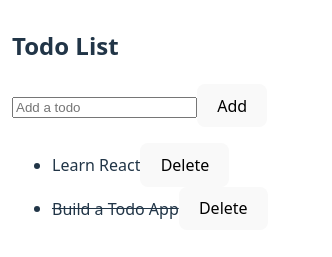
TodoList Component › adds a new todo
Type "New Todo" into the field named "todo-input" at {"x": 104, "y": 107}, box x1=12 y1=97 x2=197 y2=118
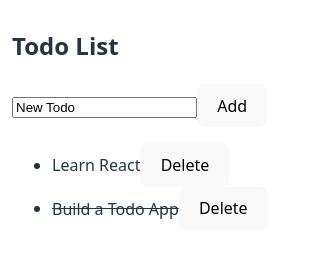
Click the button "Add" at {"x": 232, "y": 106}, box x1=197 y1=84 x2=267 y2=127
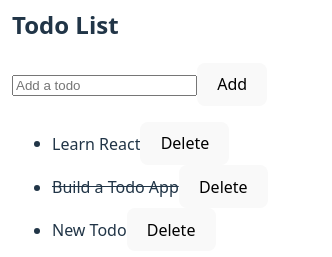
Now the list item "New Todo" is shown, box x1=52 y1=219 x2=127 y2=241
